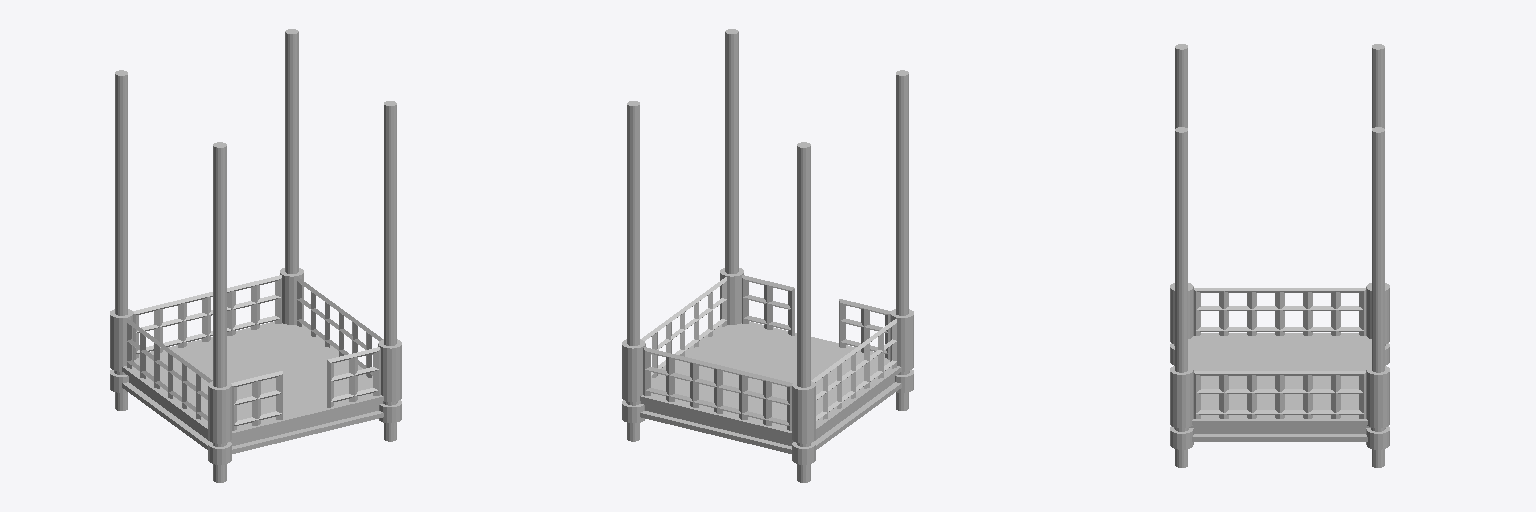
File: Lift.obj
3 views of the same model, side by side, from view 1: azimuth 30°, elevation 25°; view 2: azimuth 150°, elevation 25°; view 3: azimuth 270°, elevation 25° (orthographic).
Visible parts, largest first — view 1: Plane_Plane.001, Rods_Plane.005; view 2: Plane_Plane.001, Rods_Plane.005; view 3: Plane_Plane.001, Rods_Plane.005.
Part boxes in pixels (x1,y1,x2,y2): Plane_Plane.001: (110, 268, 401, 464); Rods_Plane.005: (115, 29, 396, 482); Plane_Plane.001: (622, 268, 913, 464); Rods_Plane.005: (627, 29, 908, 482); Plane_Plane.001: (1170, 283, 1389, 449); Rods_Plane.005: (1175, 44, 1384, 467).
Bounding box in the file's own units: 3.82 × 6.4 × 3.82.